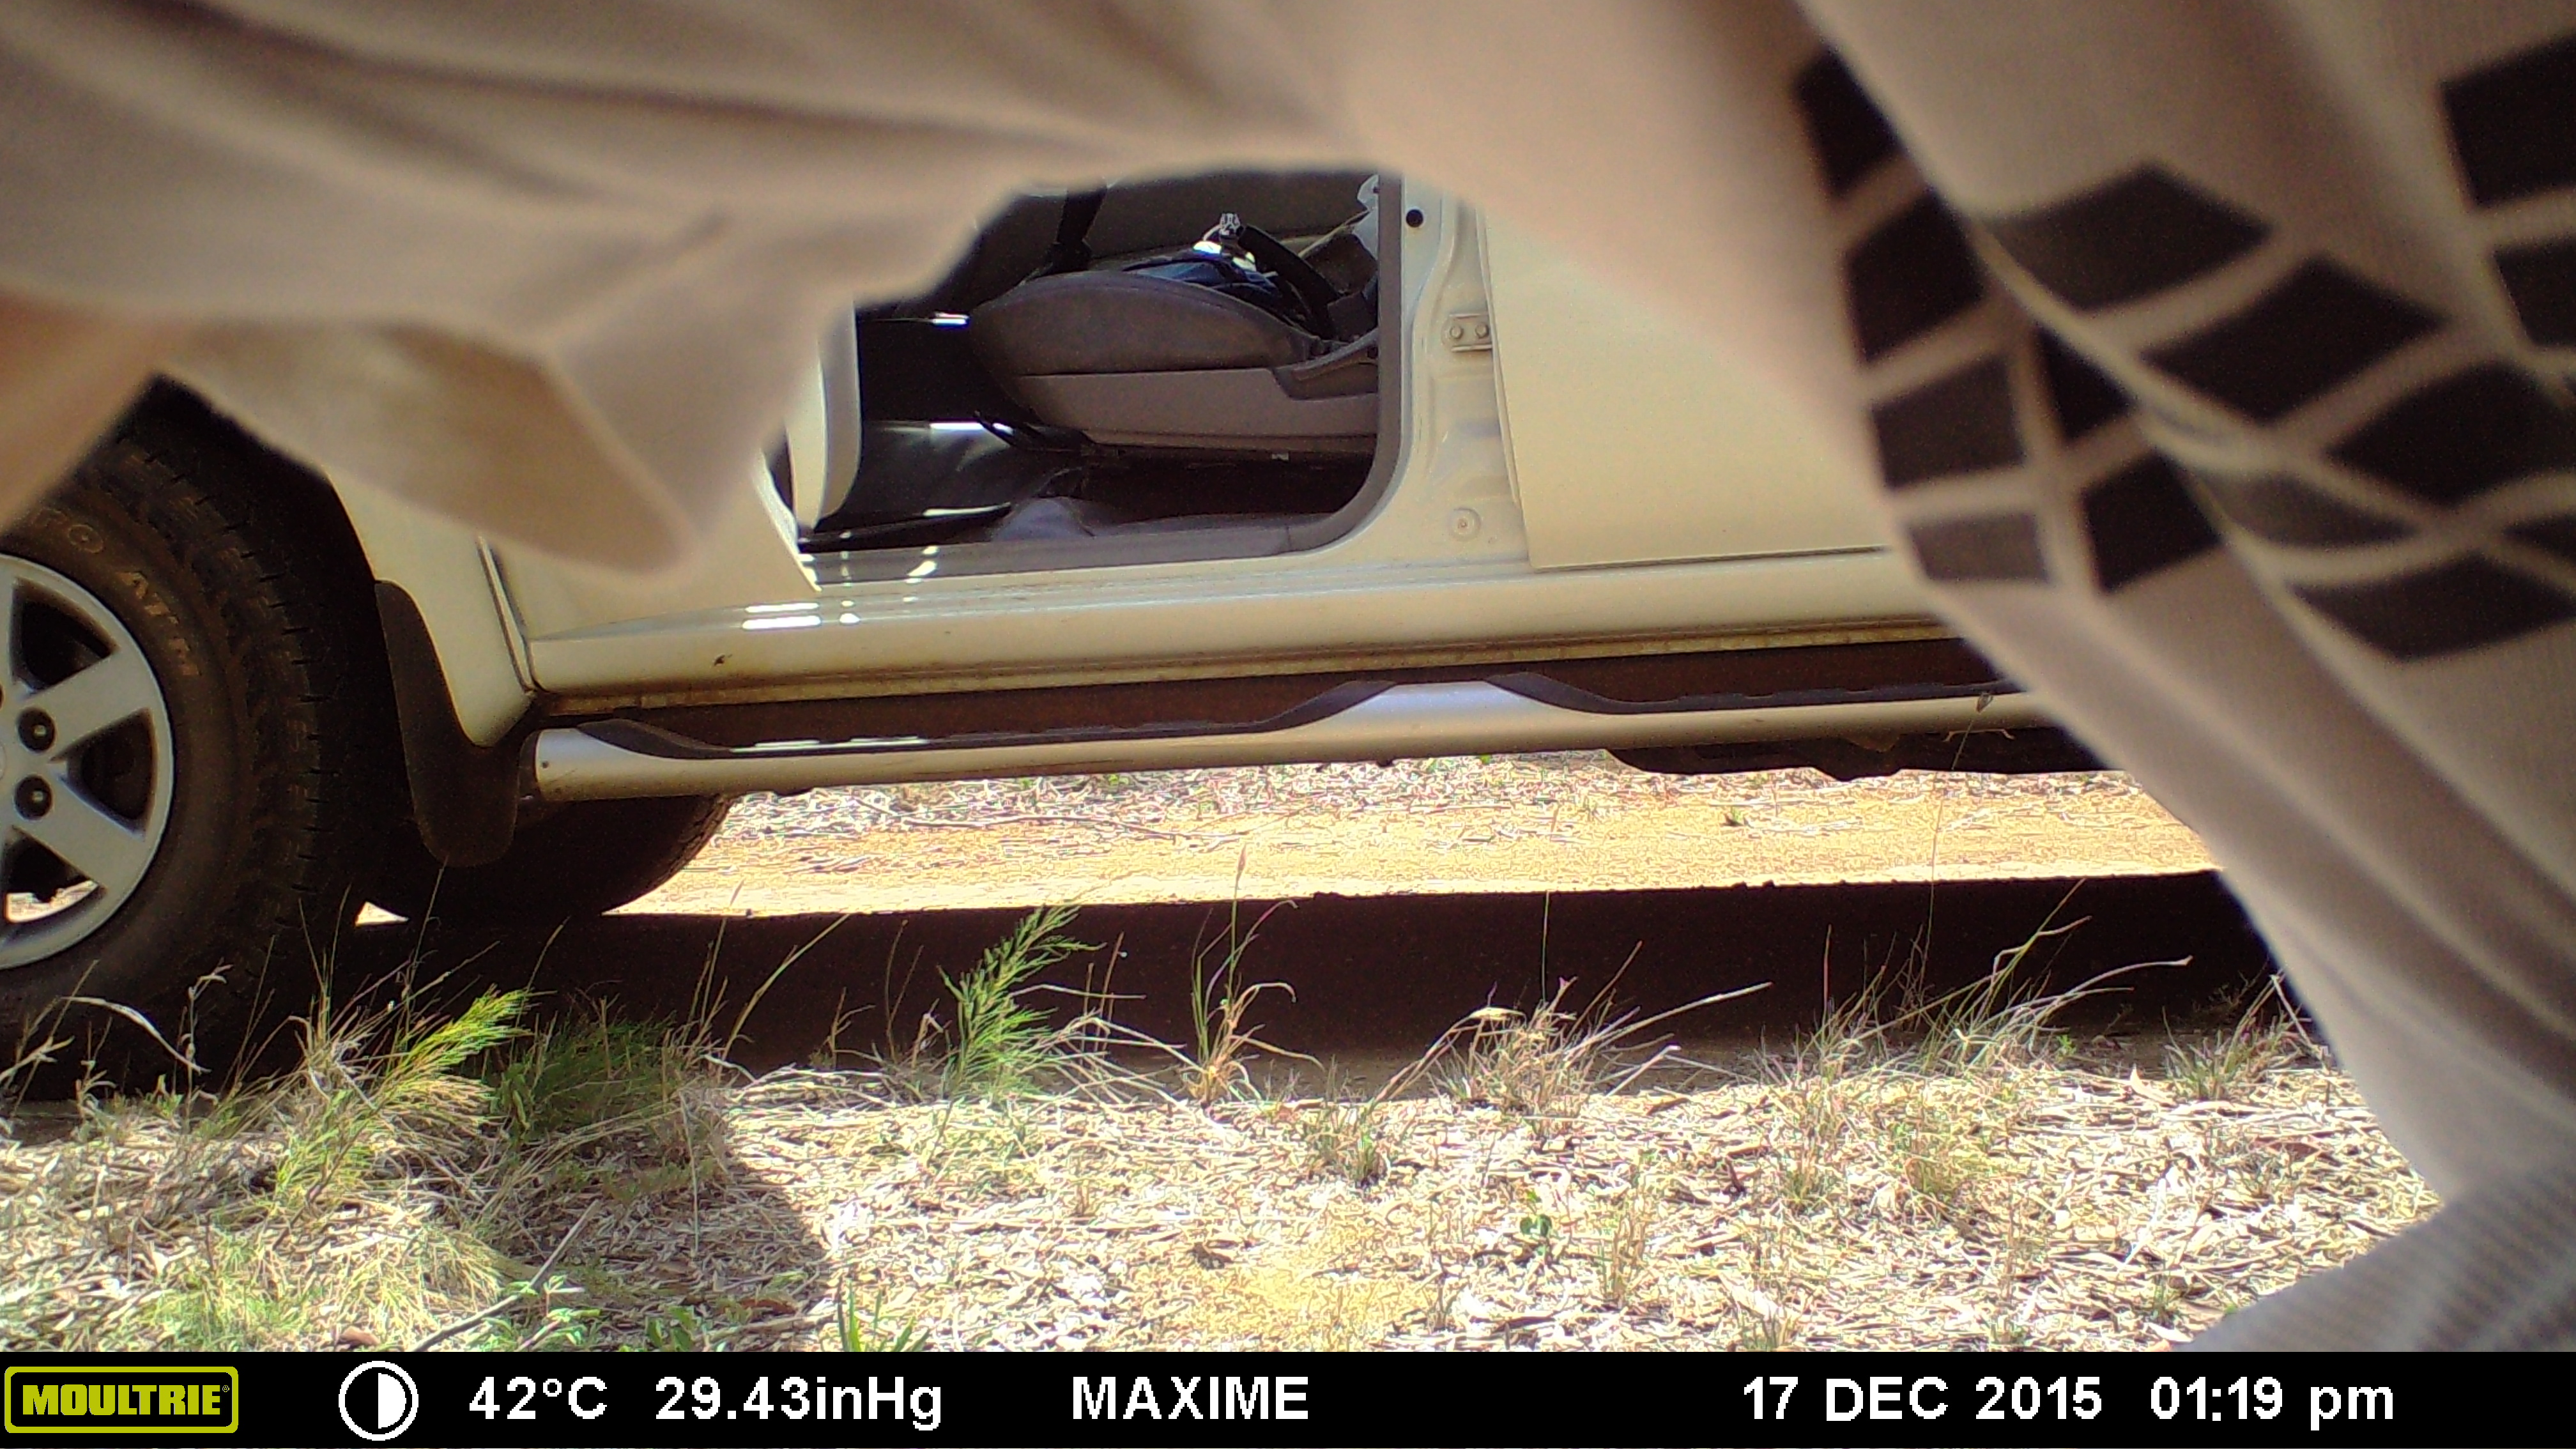Car: (0, 126, 2074, 1100)
